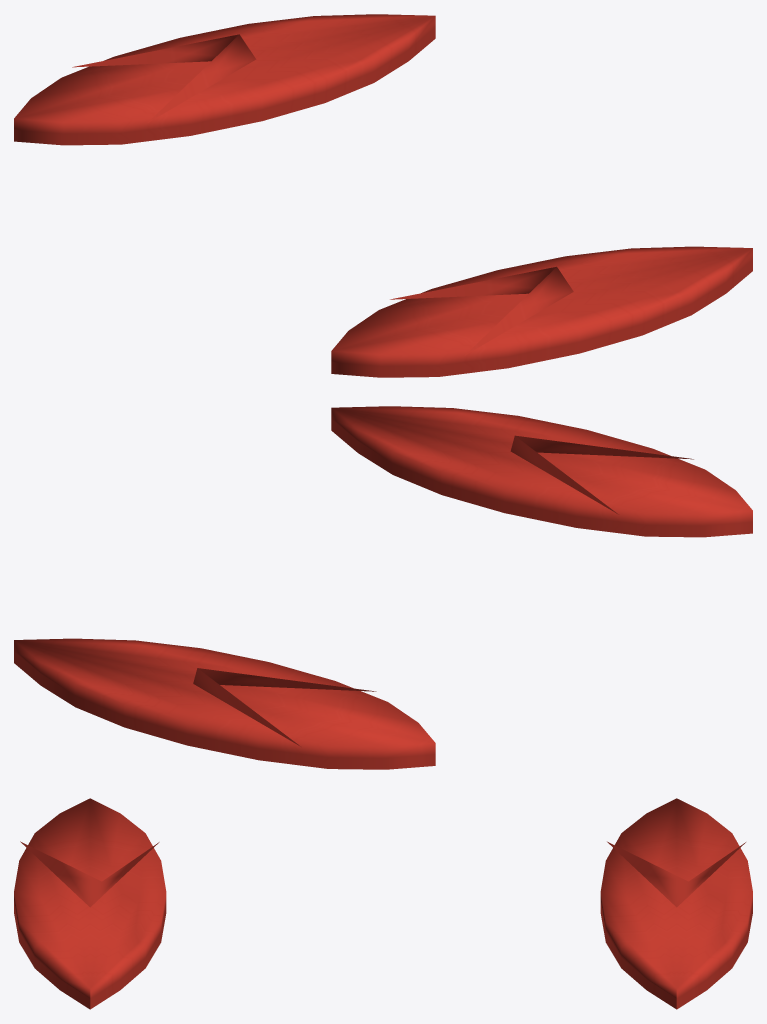
The model's file is Dep_Me.glb.
3 renders of one model, top to bottom at view 1: azimuth 30°, elevation 25°; view 2: azimuth 150°, elevation 25°; view 3: azimuth 270°, elevation 25°, orthographic. The views are drawn at different scales.
Parts seen in each view (by area): view 1: geometry_0; view 2: geometry_0; view 3: geometry_0.
Boxes of the visible parts, x1=… form: geometry_0: x1=14, y1=14, x2=752, y2=377; geometry_0: x1=14, y1=406, x2=752, y2=769; geometry_0: x1=14, y1=798, x2=752, y2=1009.
Size of the model in its own units: 0.23 by 0.024 by 0.3779.
Materials: 1 (1 with a texture image).
